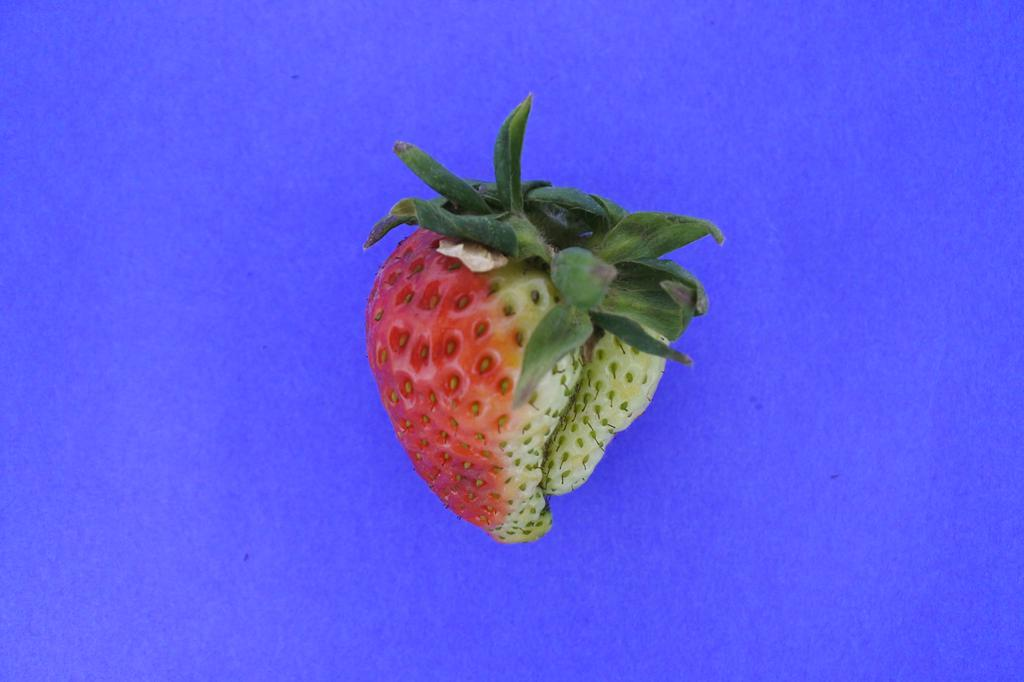red strawberry: (367, 96, 726, 544)
